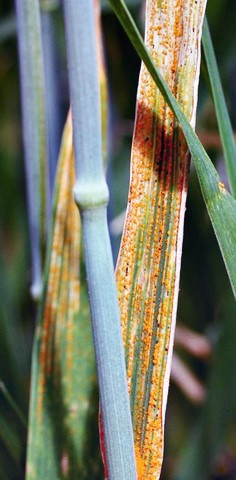Leaf Rust: (124, 12, 215, 419)
